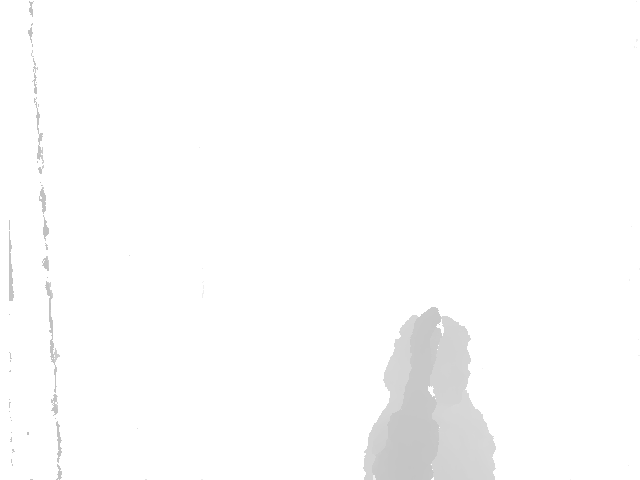hand: (400, 302, 446, 408)
head: (376, 316, 476, 402)
person: (360, 296, 498, 480)
